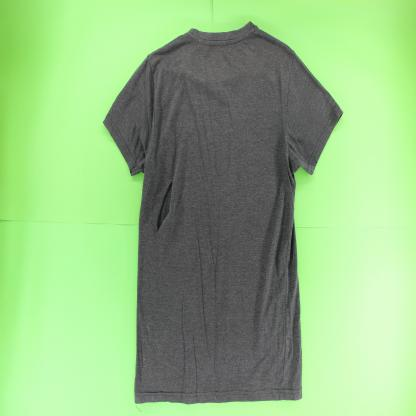hole: (155, 176, 175, 236)
